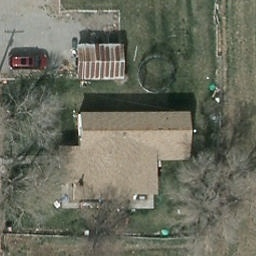car: (7, 52, 52, 72)
